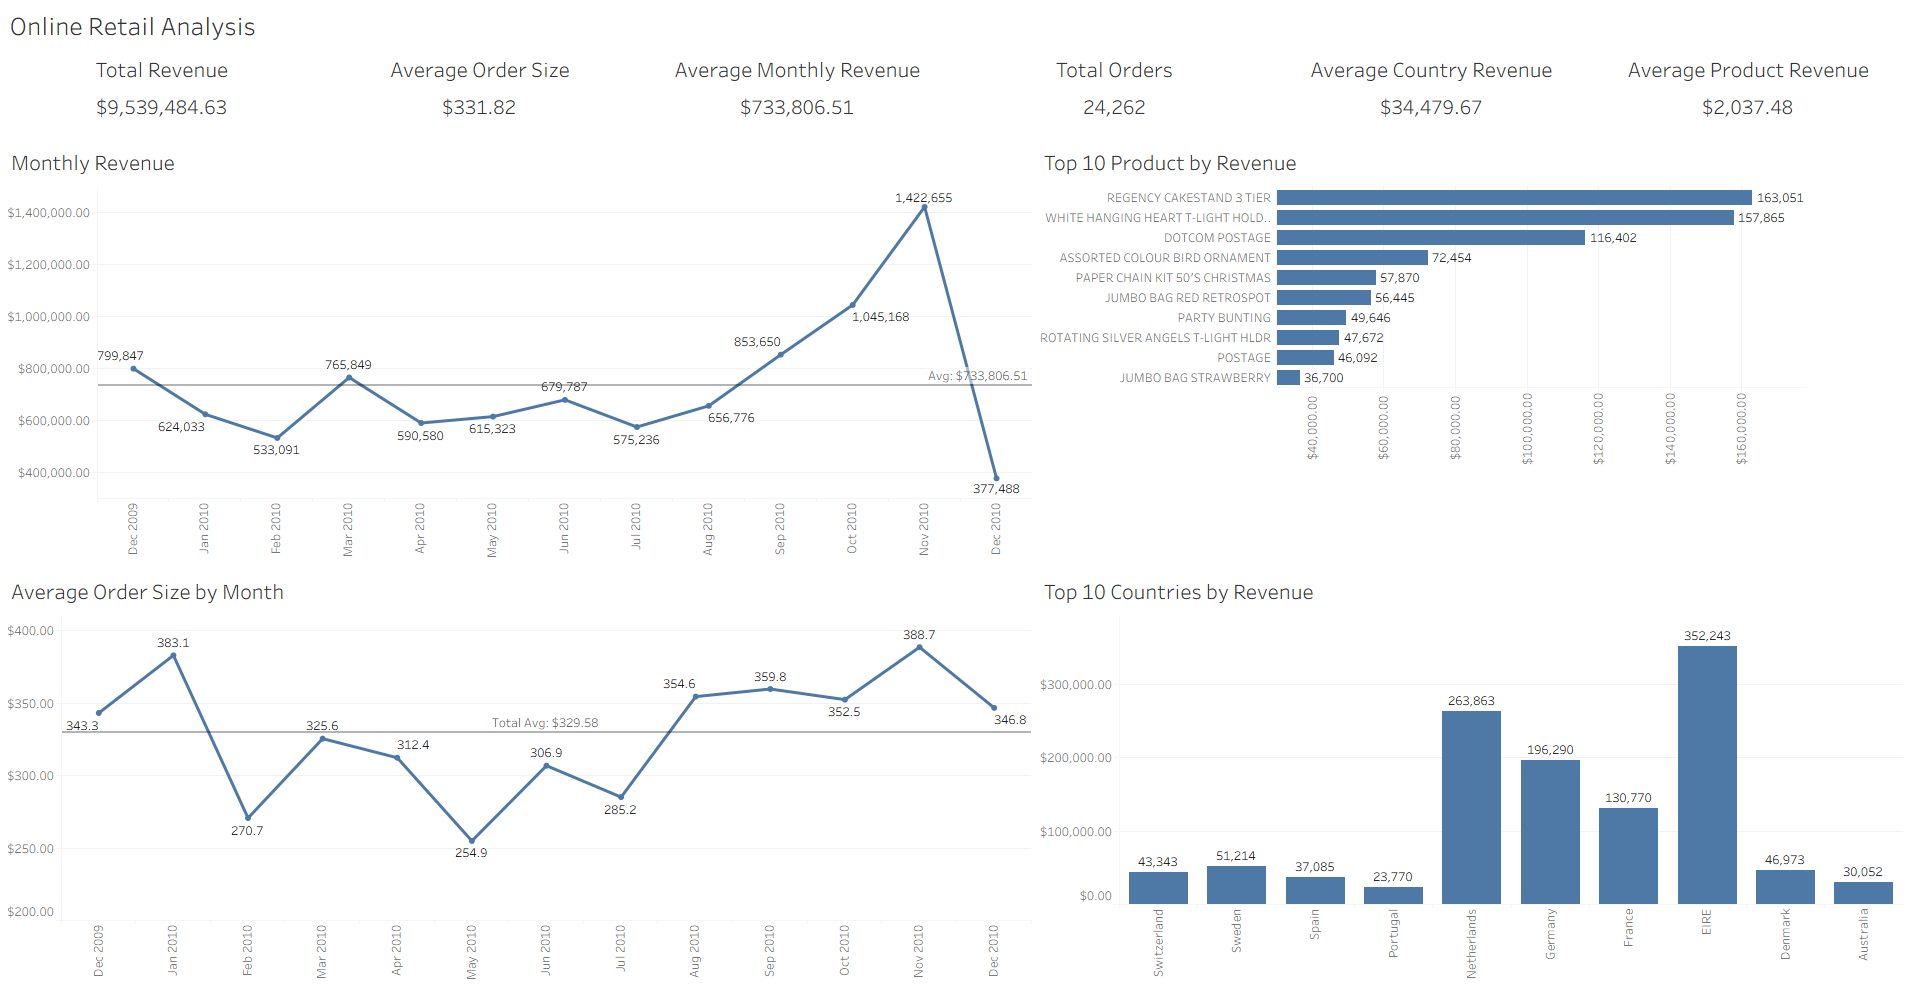

What the dashboard file says about the page in this screenshot:
{"tool":"tableau","page":{"name":"Online Retail Analysis","canvas":[1000,1000],"units":"permille","ordinal":0},"visuals":[{"type":"title","box":[4.7,9.1,990.6,47.9]},{"type":"worksheet","title":"Total Revenue","mark":"Automatic","box":[4.7,57,165.6,106]},{"type":"worksheet","title":"Average Order Size","mark":"Automatic","box":[170.3,57,165,106]},{"type":"worksheet","title":"Average Monthly Revenue","mark":"Automatic","box":[335.3,57,165,106]},{"type":"worksheet","title":"Total Orders","mark":"Automatic","box":[500.3,57,165,106]},{"type":"worksheet","title":"Average Country Revenue","mark":"Automatic","box":[665.3,57,165,106]},{"type":"worksheet","title":"Average Product Revenue","mark":"Automatic","box":[830.3,57,165,106]},{"type":"worksheet","title":"Monthly Revenue","mark":"Automatic","rows":["revenue"],"cols":["yearmonth"],"box":[4.7,163.1,537.4,413.7]},{"type":"worksheet","title":"Top 10 Product by Revenue","mark":"Automatic","rows":["description"],"cols":["revenue"],"box":[542,163.1,453.3,413.7]},{"type":"worksheet","title":"Average Order Size by Month","mark":"Automatic","rows":["ordertotal"],"cols":["yearmonth"],"box":[4.7,576.8,537.4,414.1]},{"type":"worksheet","title":"Top 10 Countries by Revenue","mark":"Automatic","rows":["revenue"],"cols":["country"],"box":[542,576.8,453.3,414.1]}]}

Visuals, with their boxes on the dashboard's canvas, which has no fixed pixel size, in thousandths of its width and height (x1, y1, x2, y2). These are canvas units, not pixel positions in the 1911x1002 screenshot, which may show the page scaled, cropped or inside an application window:
title: crop(5, 9, 995, 57)
"Total Revenue" worksheet: crop(5, 57, 170, 163)
"Average Order Size" worksheet: crop(170, 57, 335, 163)
"Average Monthly Revenue" worksheet: crop(335, 57, 500, 163)
"Total Orders" worksheet: crop(500, 57, 665, 163)
"Average Country Revenue" worksheet: crop(665, 57, 830, 163)
"Average Product Revenue" worksheet: crop(830, 57, 995, 163)
"Monthly Revenue" worksheet: crop(5, 163, 542, 577)
"Top 10 Product by Revenue" worksheet: crop(542, 163, 995, 577)
"Average Order Size by Month" worksheet: crop(5, 577, 542, 991)
"Top 10 Countries by Revenue" worksheet: crop(542, 577, 995, 991)
